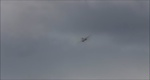maybay_muctieu: (80, 35, 89, 43)
